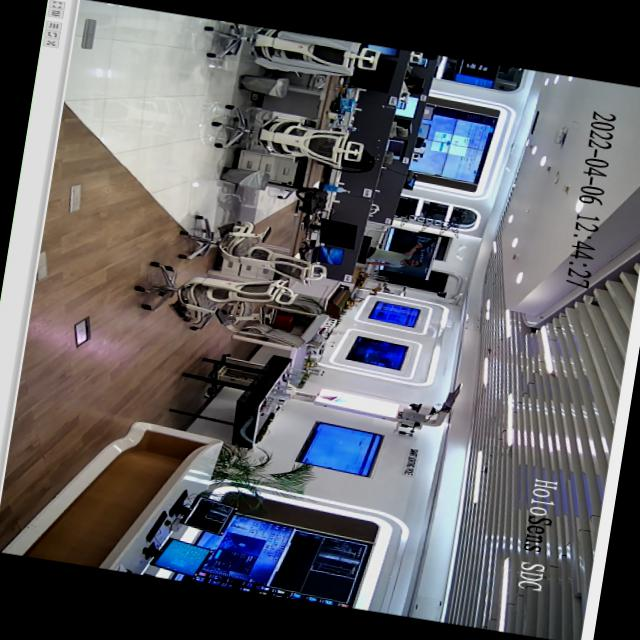long weapon: (409, 223, 448, 260)
